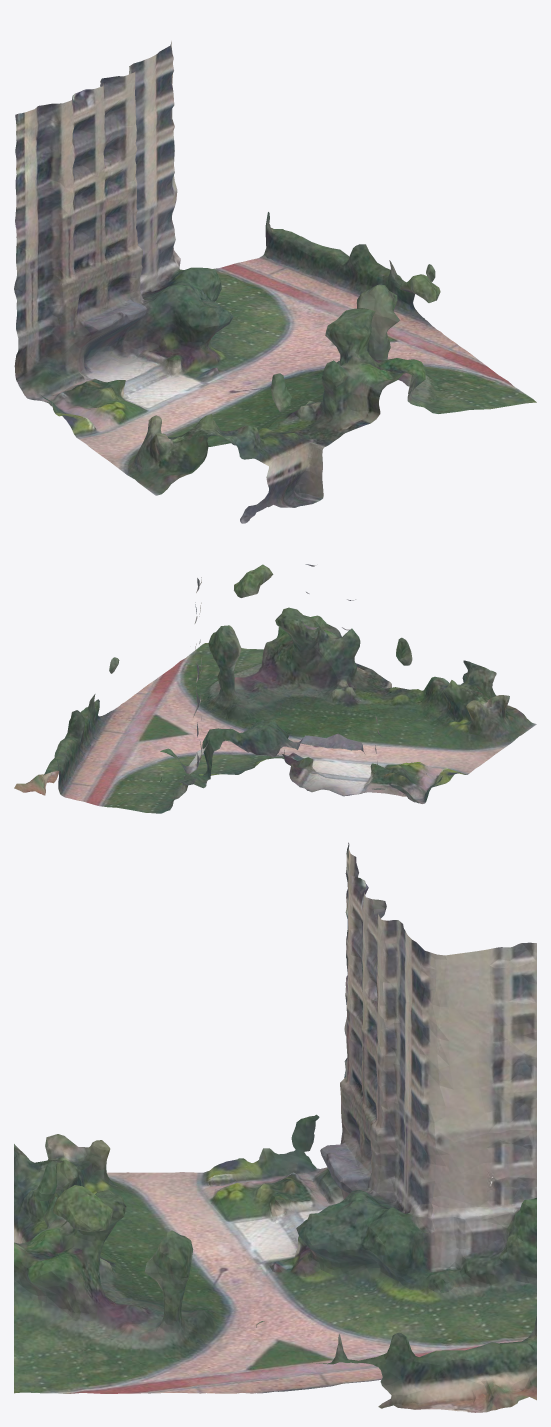
Rendered from Tile__002__005_L21_0000100.glb.
The picture shows the model from 3 angles, top to bottom: view 1: azimuth 30°, elevation 25°; view 2: azimuth 150°, elevation 25°; view 3: azimuth 270°, elevation 25°; orthographic projection. The views are drawn at different scales.
Parts seen in each view (by area): view 1: root; view 2: root; view 3: root.
Part boxes in pixels (left/top/right/bottom): root: left=14, top=41, right=536, bottom=523; root: left=14, top=564, right=536, bottom=813; root: left=14, top=842, right=536, bottom=1412.
Size of the model in its own units: 25.63 by 21.08 by 25.63.
Materials: 1 (1 with a texture image).
